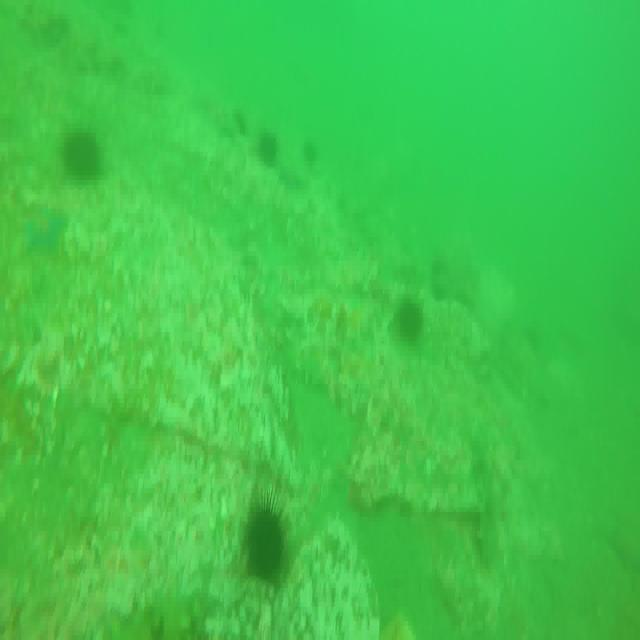echinus: (243, 502, 285, 579), (61, 126, 104, 182), (396, 292, 430, 348), (258, 123, 282, 173)
starfish: (23, 202, 71, 257)
